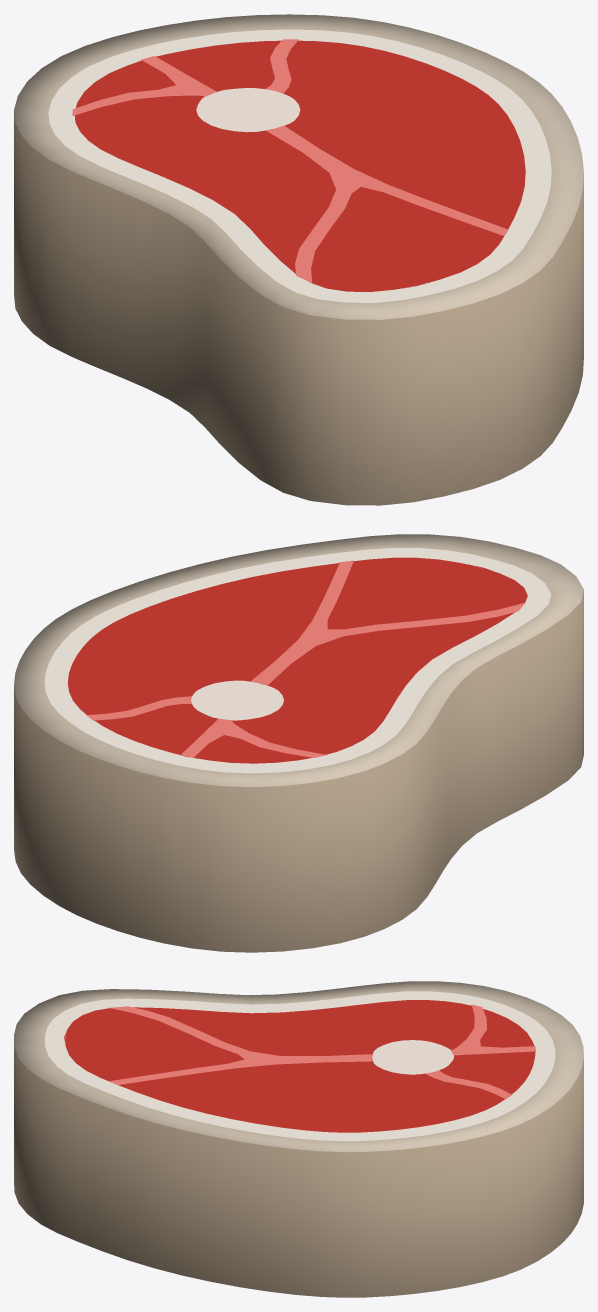
Rendered from Steak_Bowl.fbx.
3 renders of one model, top to bottom at view 1: azimuth 30°, elevation 25°; view 2: azimuth 150°, elevation 25°; view 3: azimuth 270°, elevation 25°, orthographic. The views are drawn at different scales.
Visible parts, largest first — view 1: Steak_Bowl; view 2: Steak_Bowl; view 3: Steak_Bowl.
Part boxes in pixels (x1,y1,x2,y2): Steak_Bowl: [14, 14, 583, 505]; Steak_Bowl: [14, 534, 583, 952]; Steak_Bowl: [14, 981, 583, 1297].
Bounding box in the file's own units: 47.75 × 19.02 × 67.27.
